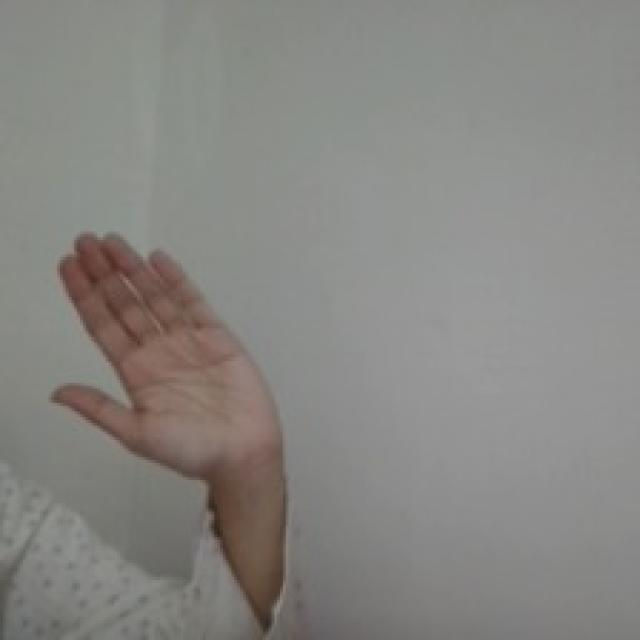Hello: (45, 226, 286, 479)
